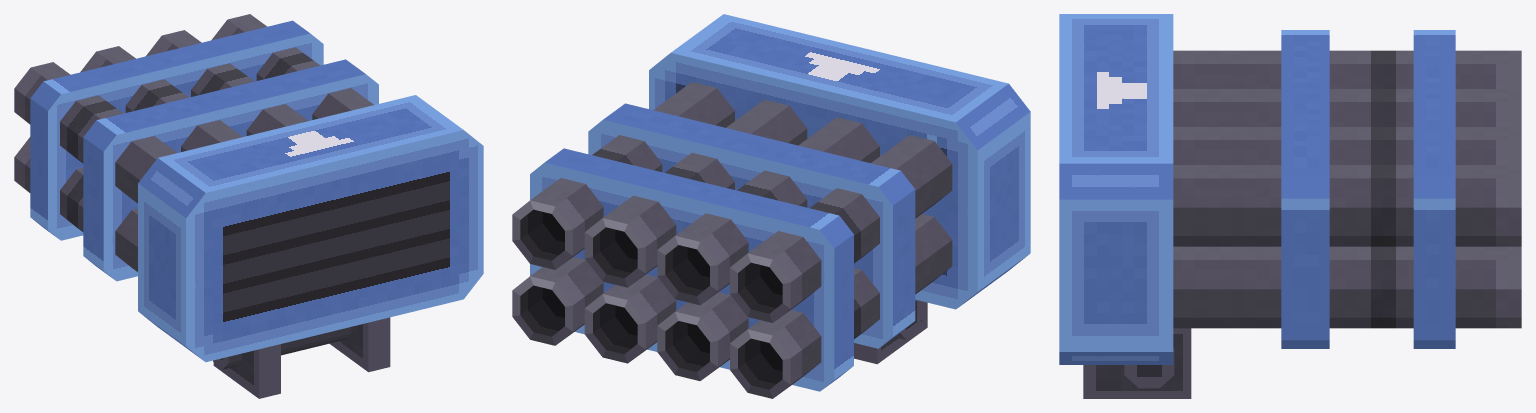
Rendered from mortar.glb.
The picture shows the model from 3 angles, left to right: view 1: azimuth 30°, elevation 25°; view 2: azimuth 150°, elevation 25°; view 3: azimuth 270°, elevation 25°; orthographic projection. The views are drawn at different scales.
Parts seen in each view (by area): view 1: mortar_head; view 2: mortar_head; view 3: mortar_head.
Boxes of the visible parts, x1,y1,x2,y2 form: mortar_head: (14,14,483,398); mortar_head: (512,14,1030,398); mortar_head: (1059,14,1521,398).
Bounding box in the file's own units: 0.68 × 0.5 × 0.77.
1 material, 1 textured.
